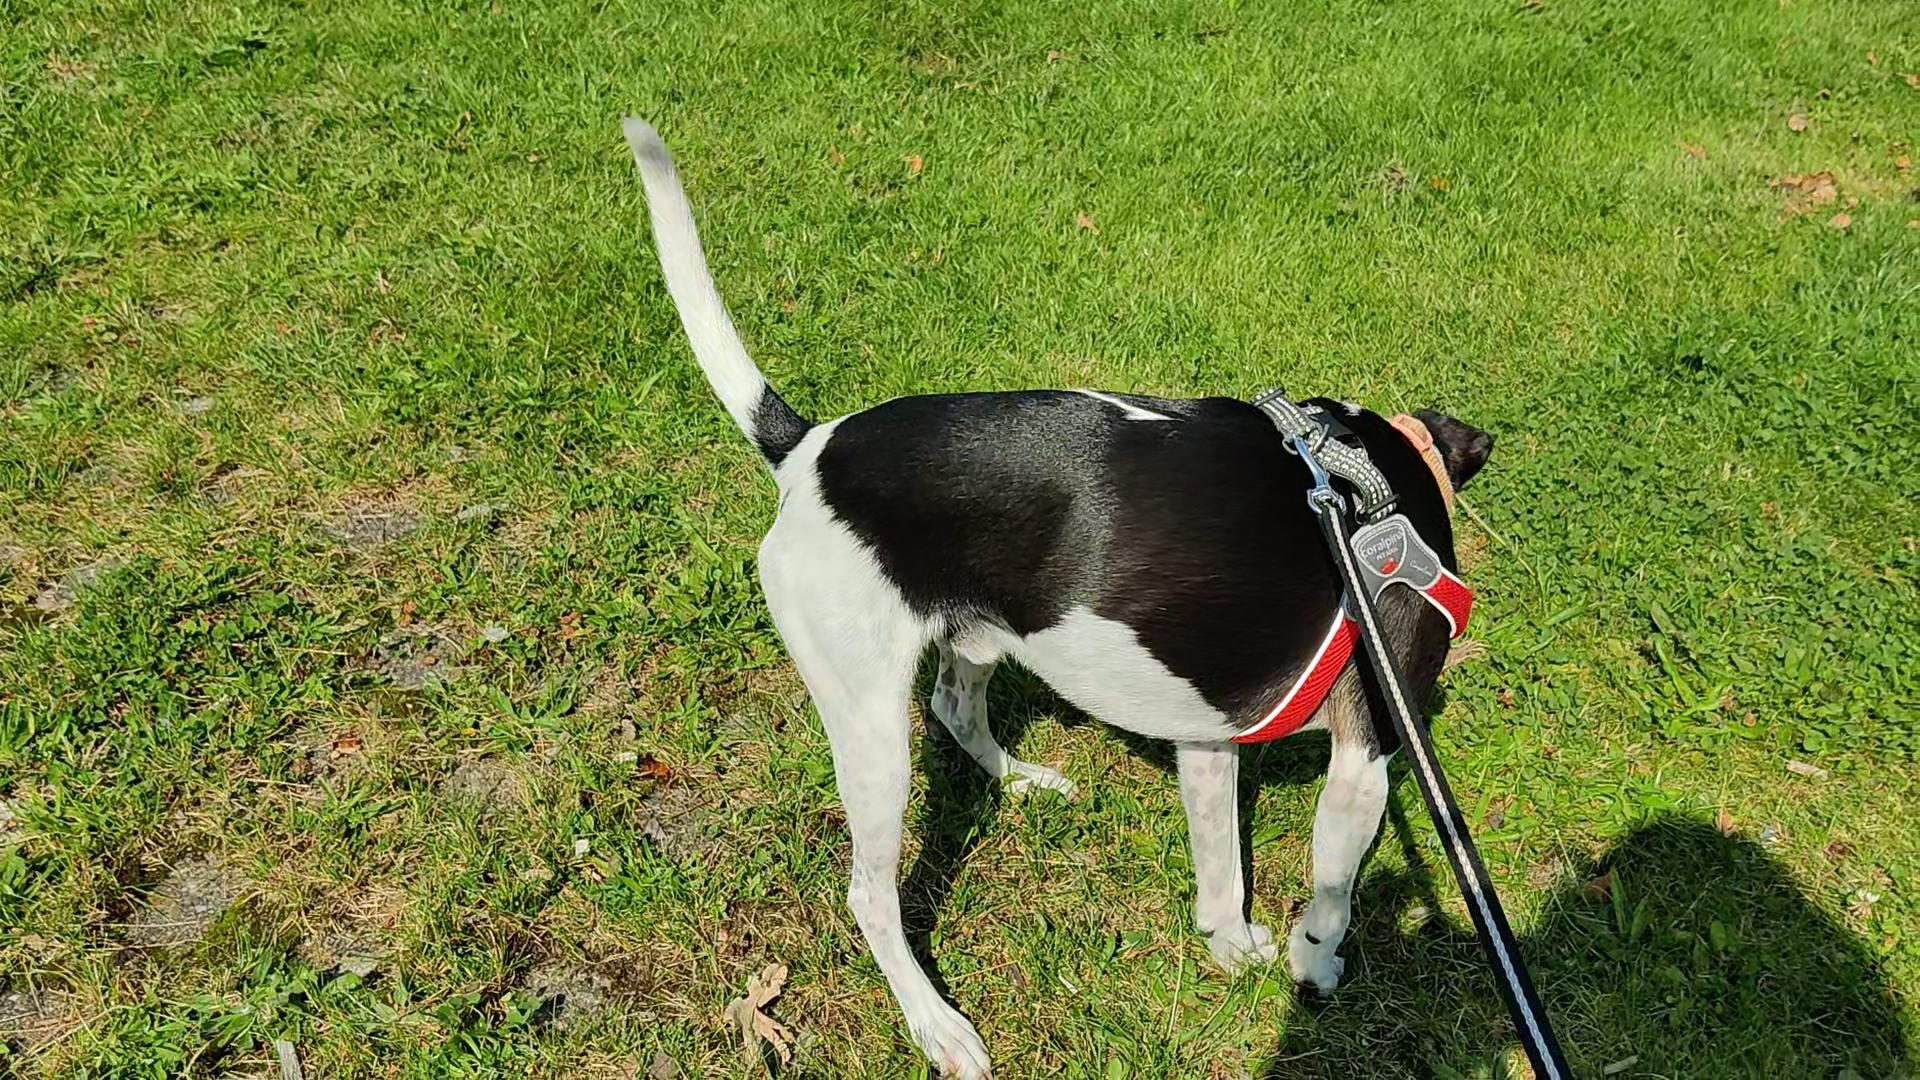Dog: (605, 103, 1511, 1079)
